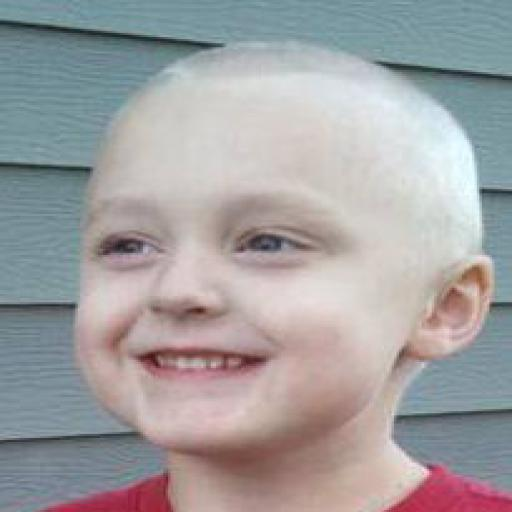Autism: (36, 31, 510, 500)
